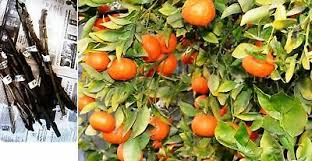orange: (237, 46, 277, 81), (189, 111, 220, 138), (134, 35, 163, 63), (107, 57, 138, 83), (86, 108, 119, 132), (83, 46, 112, 70), (143, 115, 171, 139), (192, 75, 209, 94)
